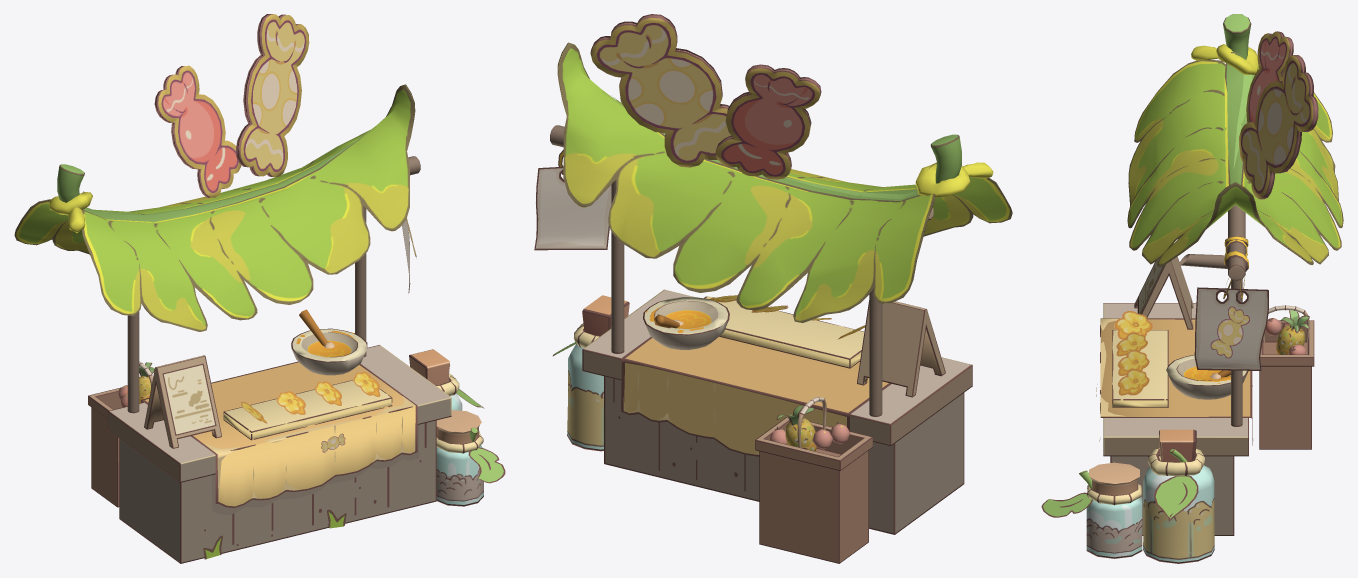
Rendered from Mesh_Home_RF_CandyShop_SM.fbx.
The picture shows the model from 3 angles, left to right: view 1: azimuth 30°, elevation 25°; view 2: azimuth 150°, elevation 25°; view 3: azimuth 270°, elevation 25°; orthographic projection. The views are drawn at different scales.
Visible parts, largest first — view 1: Mesh_Home_RF_CandyShop; view 2: Mesh_Home_RF_CandyShop; view 3: Mesh_Home_RF_CandyShop.
Boxes of the visible parts, x1,y1,x2,y2 form: Mesh_Home_RF_CandyShop: (14, 14, 505, 563); Mesh_Home_RF_CandyShop: (534, 14, 1012, 563); Mesh_Home_RF_CandyShop: (1041, 14, 1343, 563).
Size of the model in its own units: 294 by 306 by 189.
Materials: 1 (1 with a texture image).
